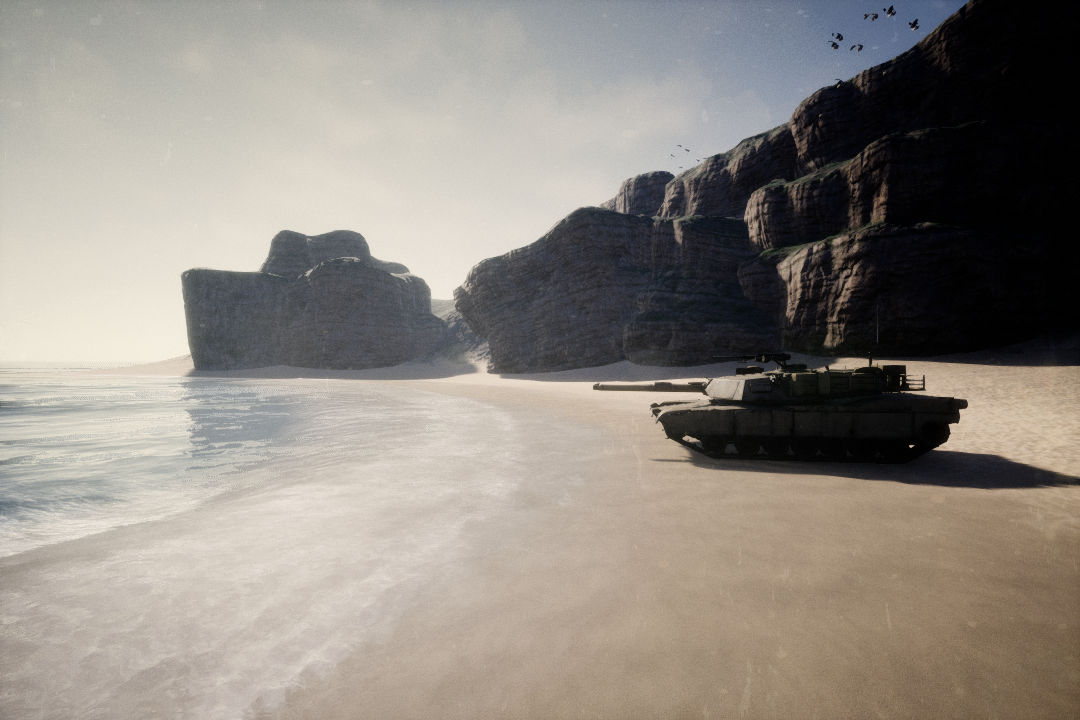tank: (595, 351, 971, 464)
